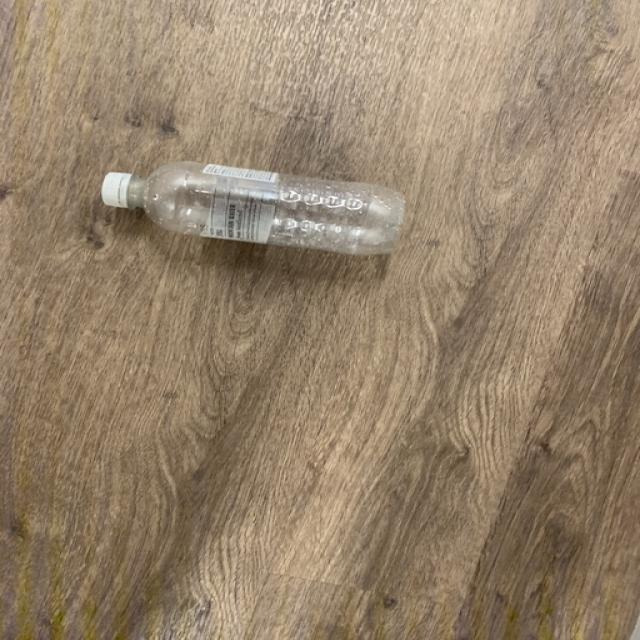Waste: (104, 161, 406, 255)
